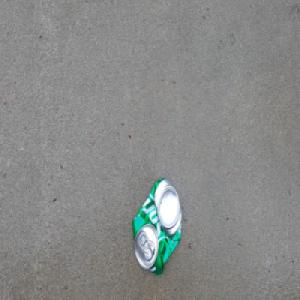SodaCan: (130, 174, 183, 276)
